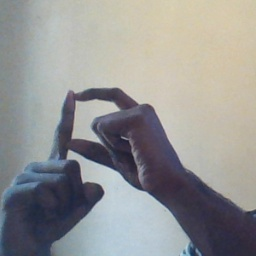D: (27, 80, 152, 206)
